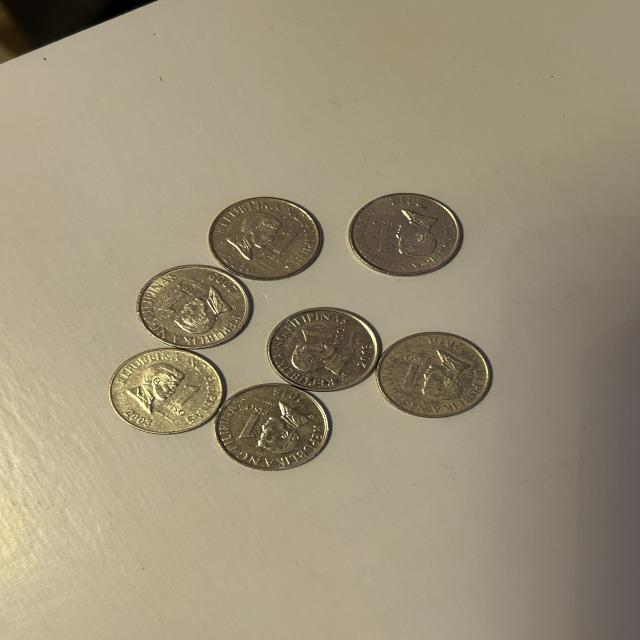1_Old_Front: (162, 378, 211, 420), (296, 321, 352, 352), (397, 348, 432, 397), (232, 402, 272, 444), (364, 214, 401, 258), (263, 227, 297, 268)
